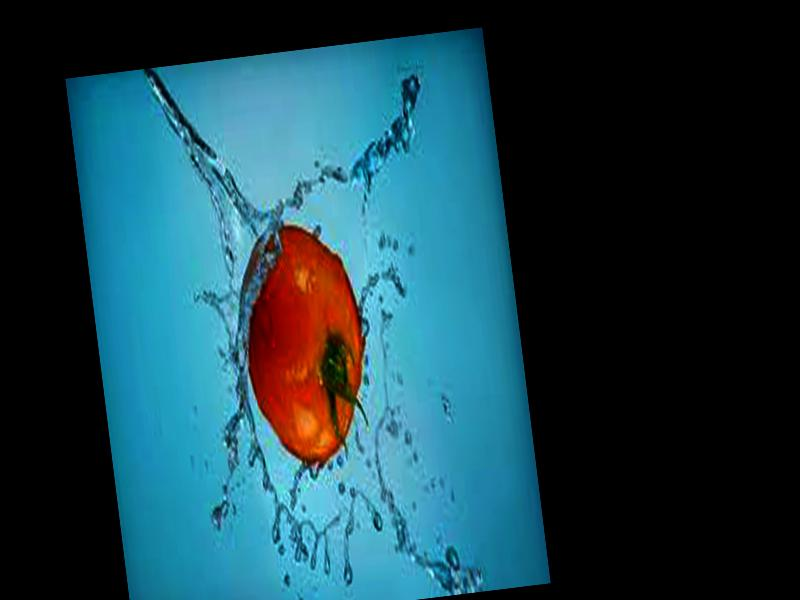Tomato: (230, 219, 376, 472)
